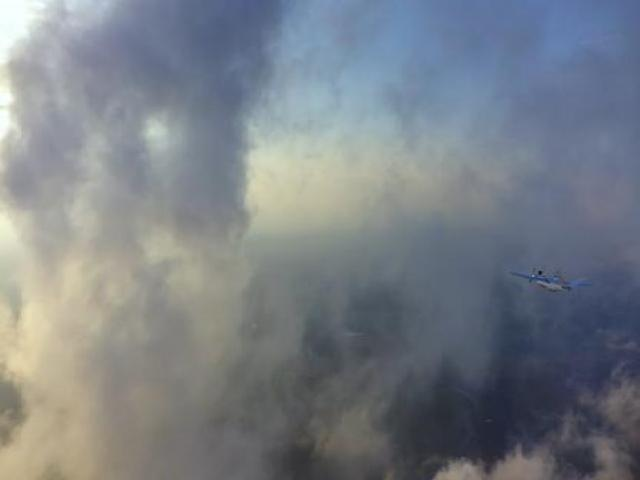uav: (507, 264, 598, 295)
